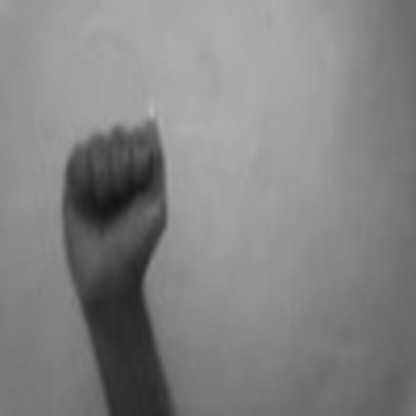a: (55, 105, 171, 305)
